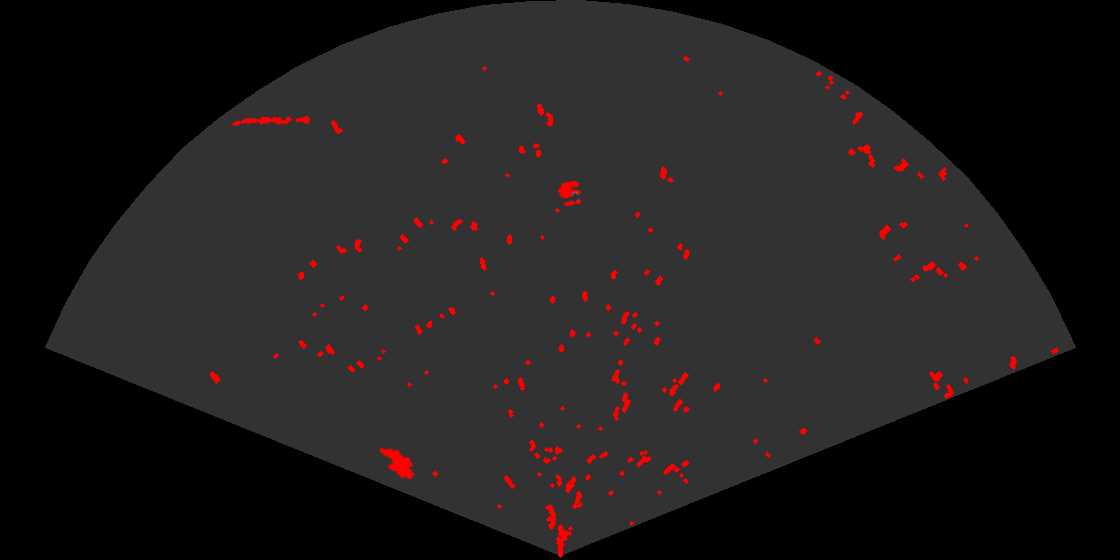AUV: (378, 446, 416, 481)
ball: (556, 179, 583, 208)
chain: (231, 114, 311, 127)
